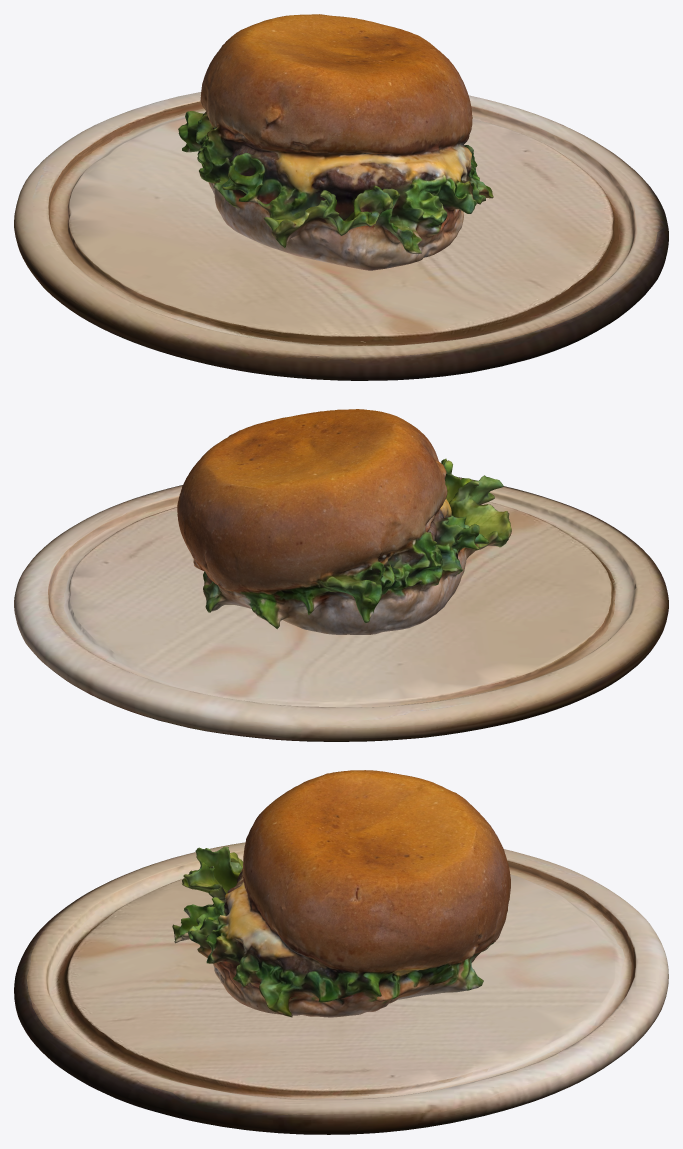
Rendered from Cheese.burger.glb.
3 renders of one model, top to bottom at view 1: azimuth 30°, elevation 25°; view 2: azimuth 150°, elevation 25°; view 3: azimuth 270°, elevation 25°, orthographic.
Visible parts, largest first — view 1: Submesh_0.001, 3DModel; view 2: Submesh_0.001, 3DModel; view 3: Submesh_0.001, 3DModel.
Part boxes in pixels (x1,y1,x2,y2): Submesh_0.001: (14,92,668,380); 3DModel: (178,14,493,270); Submesh_0.001: (14,477,668,741); 3DModel: (177,409,511,634); Submesh_0.001: (14,842,668,1134); 3DModel: (172,770,510,1017).
Size of the model in its own units: 0.2887 by 0.0996 by 0.2886.
Materials: 2 (2 with a texture image).
